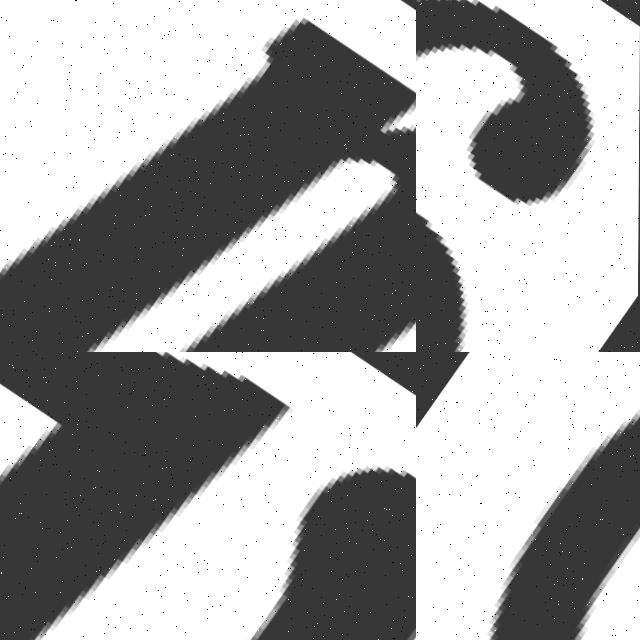6: (416, 0, 640, 352)
C: (489, 419, 640, 640)
N: (0, 0, 416, 352)
V: (0, 352, 416, 640)
